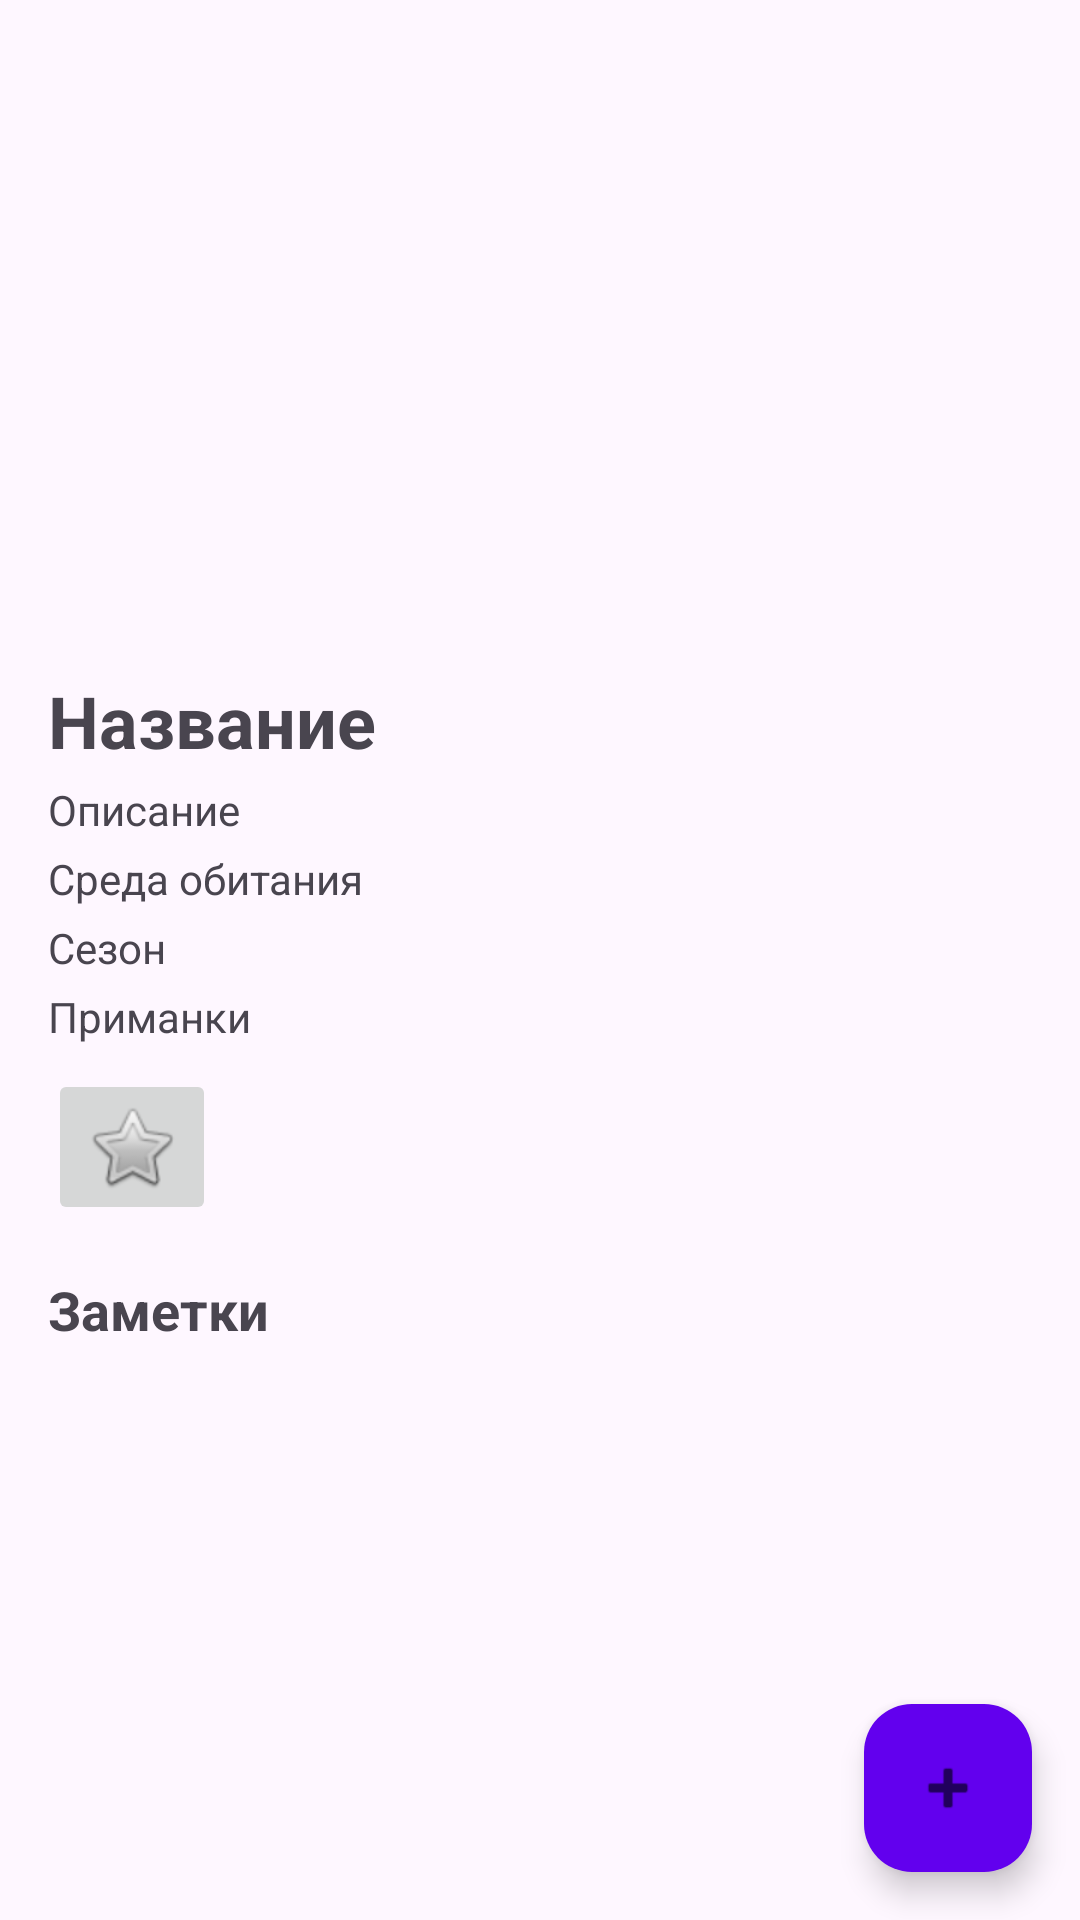

Icons on this 1080x1920 Android screen, each with its box as (x1, y1, x2, y2):
add: (864, 1704, 1032, 1872)
Избранное: (60, 1087, 204, 1207)
